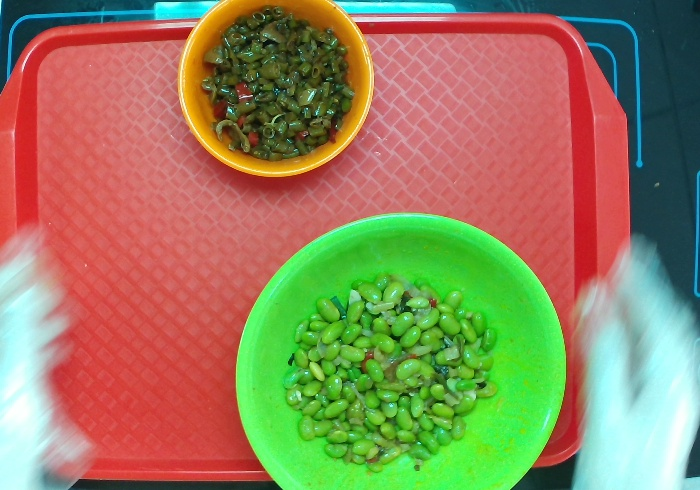YKMZ-Ju_Se_Yuan_Wan: (174, 1, 382, 189)
YKMZ-Lv_Se_Tang_Wan: (225, 213, 575, 490)
